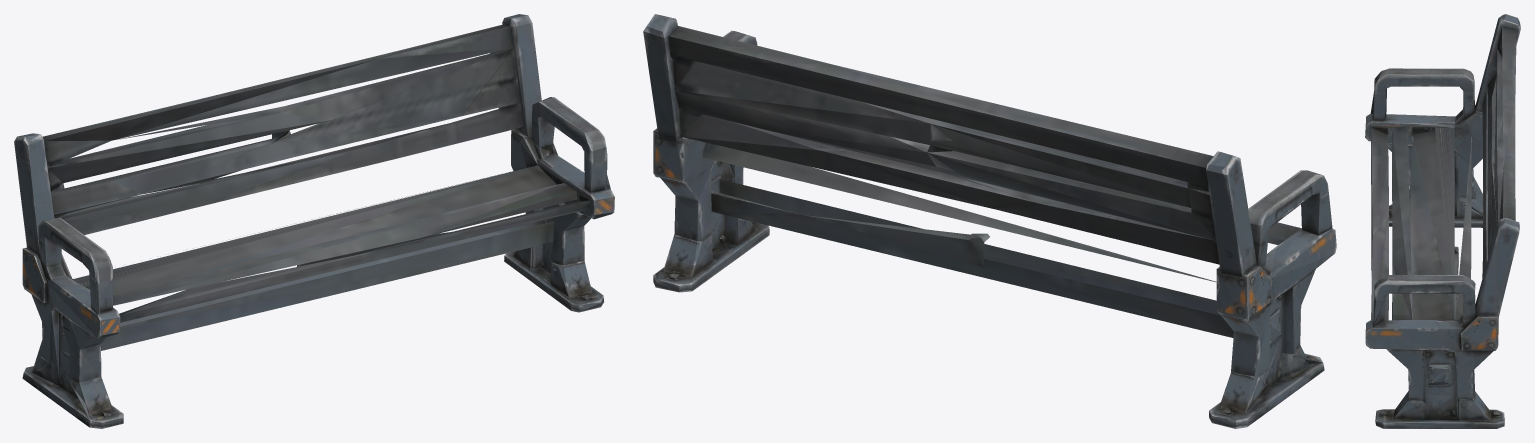
The model's file is bench.glb.
3 renders of one model, left to right at view 1: azimuth 30°, elevation 25°; view 2: azimuth 150°, elevation 25°; view 3: azimuth 270°, elevation 25°, orthographic. The views are drawn at different scales.
Visible parts, largest first — view 1: Mesh_0; view 2: Mesh_0; view 3: Mesh_0.
Boxes of the visible parts, x1,y1,x2,y2 form: Mesh_0: (14,14,614,428); Mesh_0: (643,14,1336,428); Mesh_0: (1365,14,1520,428).
Bounding box in the file's own units: 2.4 × 1.05 × 0.7319.
1 material, 1 textured.
